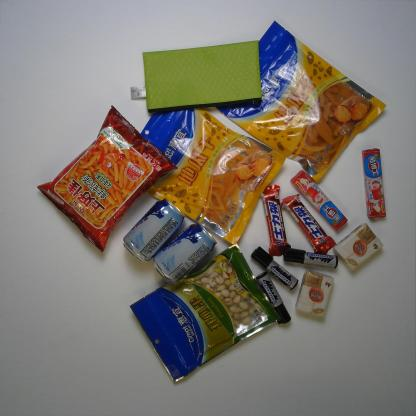Alcohol: (120, 194, 194, 259), (151, 223, 215, 282)
Candy: (289, 163, 346, 230), (357, 140, 392, 223)
Chocolate: (284, 193, 335, 255), (262, 180, 290, 254)
Dried Fruit: (115, 238, 298, 390), (216, 14, 385, 178), (120, 96, 283, 244)
Puffed Food: (36, 109, 188, 251)
Stationery: (126, 39, 274, 115), (273, 239, 339, 279), (248, 266, 290, 326), (252, 242, 299, 292)
Tissue: (335, 220, 390, 276), (296, 269, 332, 319)
